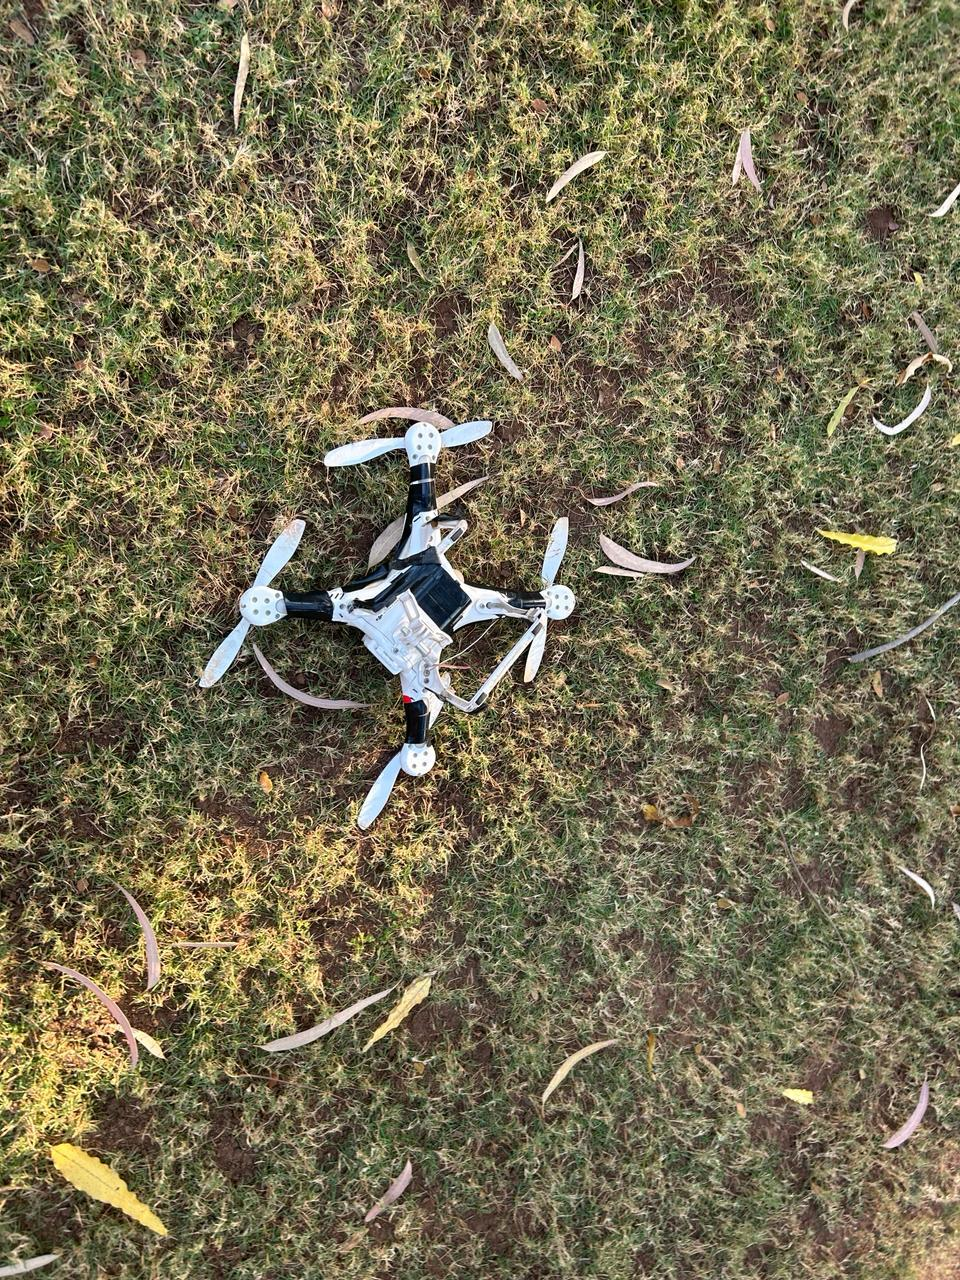drone: (219, 404, 587, 787)
